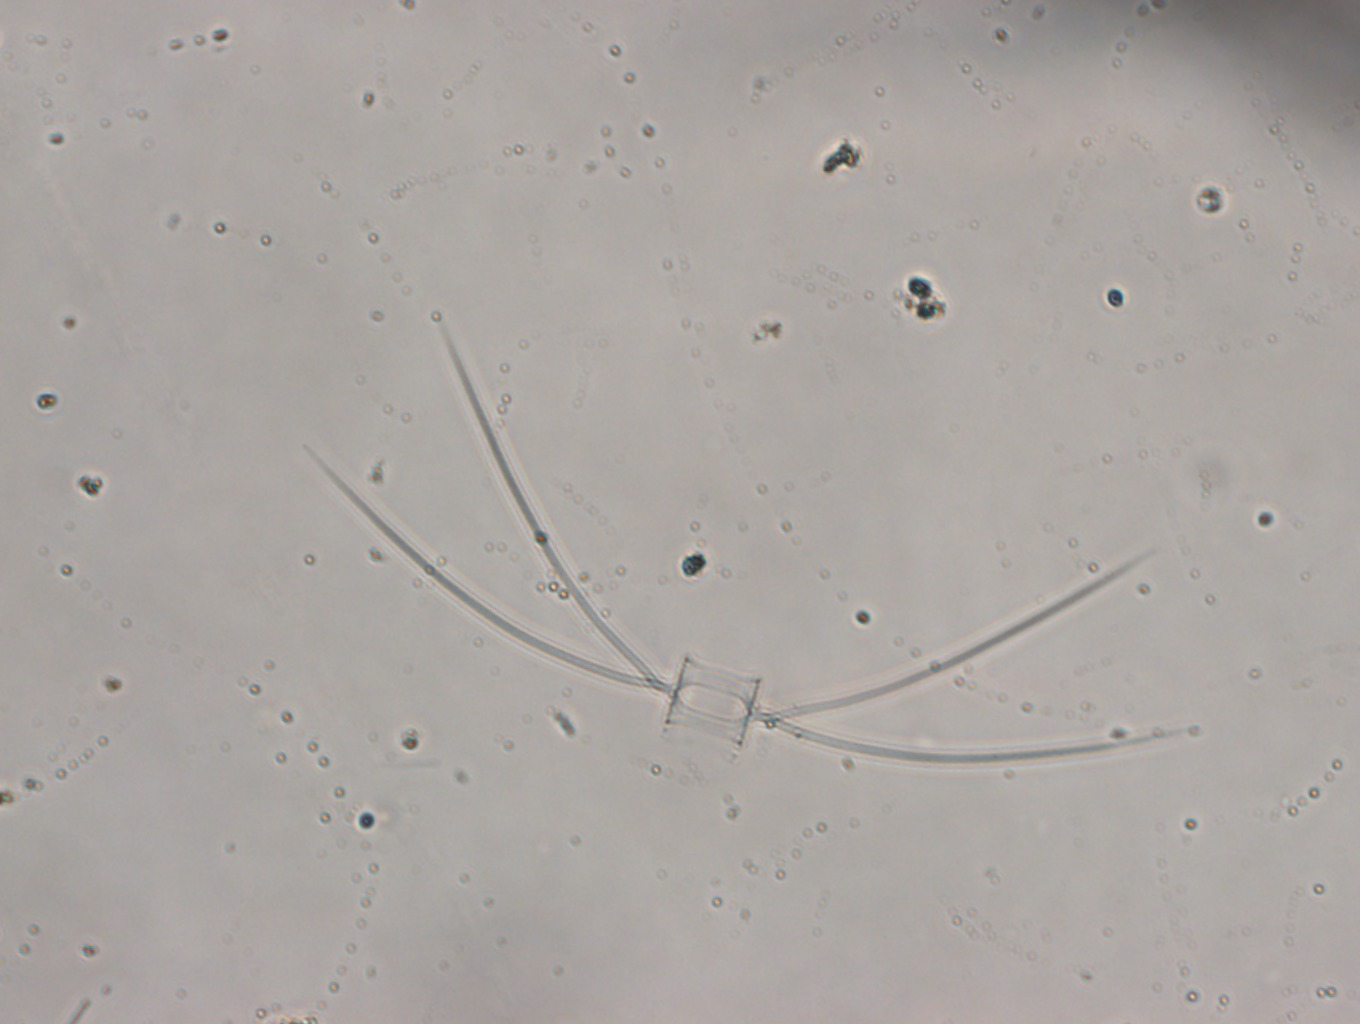chaetoceros: (301, 330, 1169, 764)
